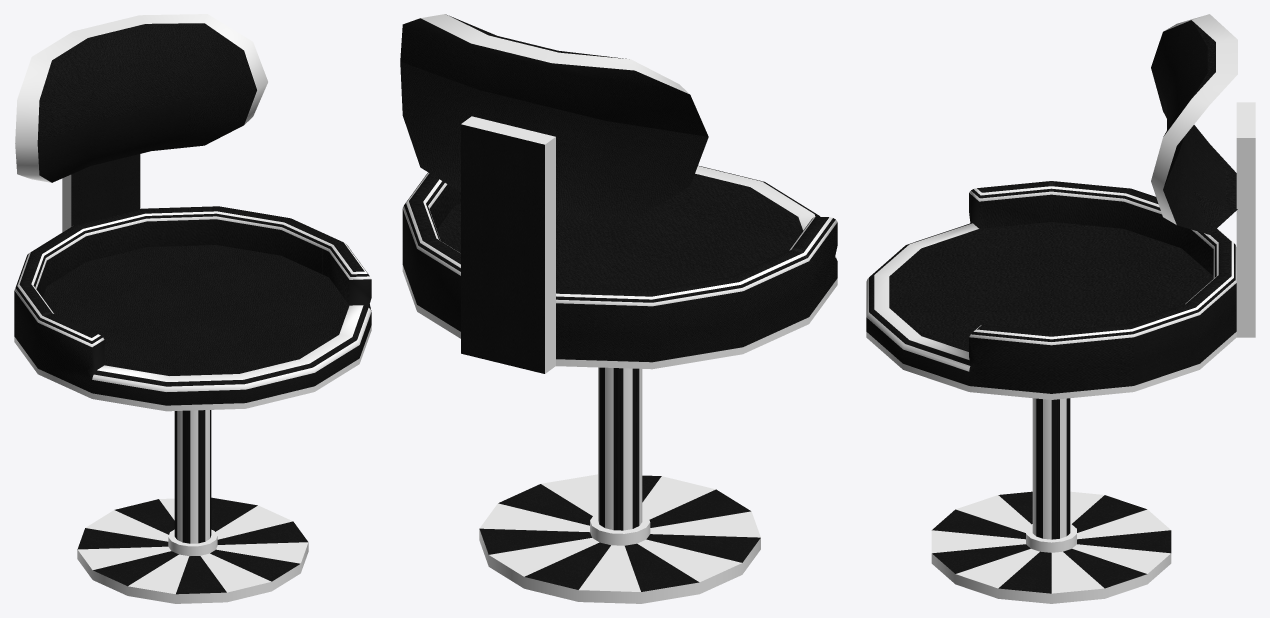
The model's file is Chair_01.FBX.
3 renders of one model, left to right at view 1: azimuth 30°, elevation 25°; view 2: azimuth 150°, elevation 25°; view 3: azimuth 270°, elevation 25°, orthographic. The views are drawn at different scales.
Visible parts, largest first — view 1: Chair_01; view 2: Chair_01; view 3: Chair_01.
Part boxes in pixels (box(x1,y1,x2,y2)): Chair_01: box(14, 14, 371, 603); Chair_01: box(400, 14, 837, 603); Chair_01: box(866, 14, 1255, 603).
Bounding box in the file's own units: 39.37 × 56.71 × 40.35.
